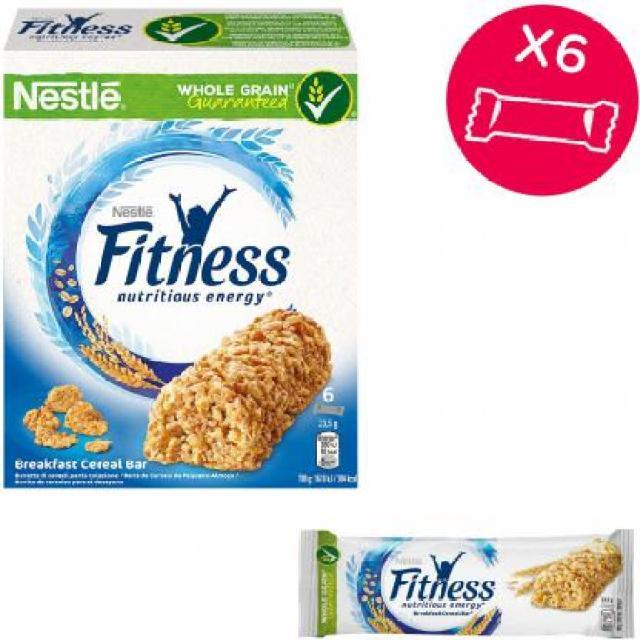Cereal bar: (292, 519, 640, 639)
